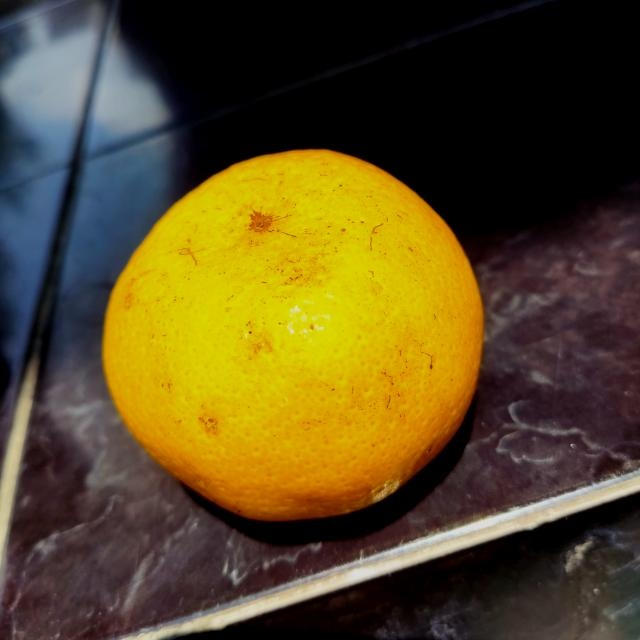agrume: (105, 145, 487, 523)
